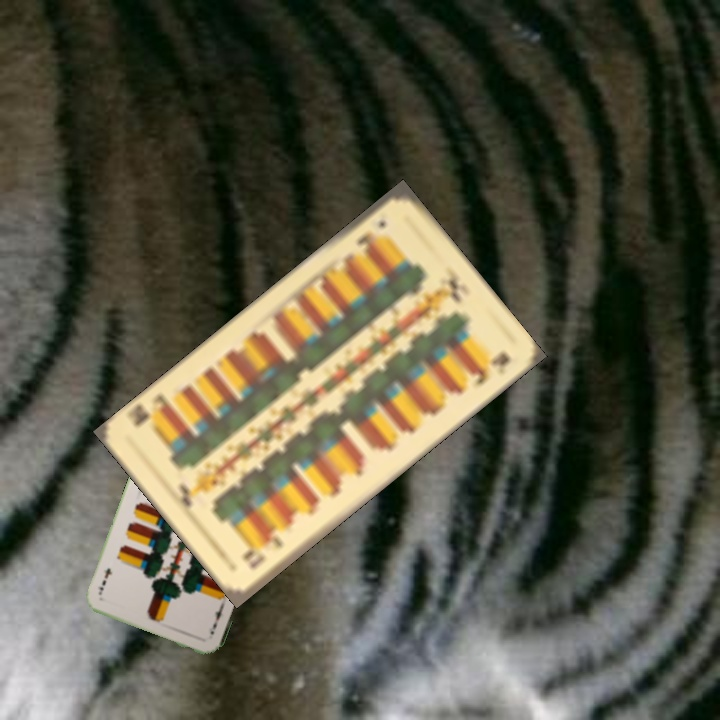E10: (241, 532, 285, 572), (351, 216, 389, 255)
E7: (206, 602, 226, 637)
